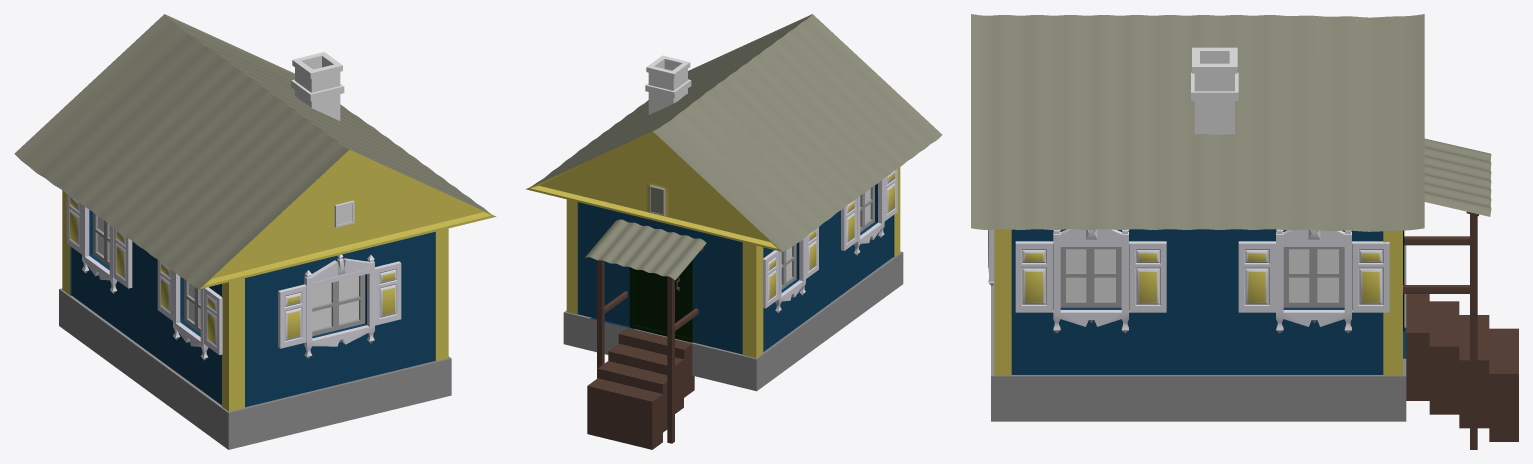
File: Дом 2 маленький .fbx
3 renders of one model, left to right at view 1: azimuth 30°, elevation 25°; view 2: azimuth 150°, elevation 25°; view 3: azimuth 270°, elevation 25°, orthographic. The views are drawn at different scales.
Parts seen in each view (by area): view 1: Куб.003; view 2: Куб.003; view 3: Куб.003.
Part boxes in pixels (x1,y1,x2,y2): Куб.003: [14, 14, 496, 449]; Куб.003: [526, 14, 942, 449]; Куб.003: [971, 14, 1518, 449].
Size of the model in its own units: 207 by 223 by 269.
